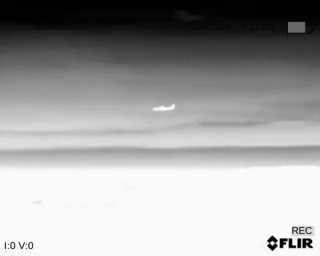AIRPLANE: (151, 102, 176, 114)
